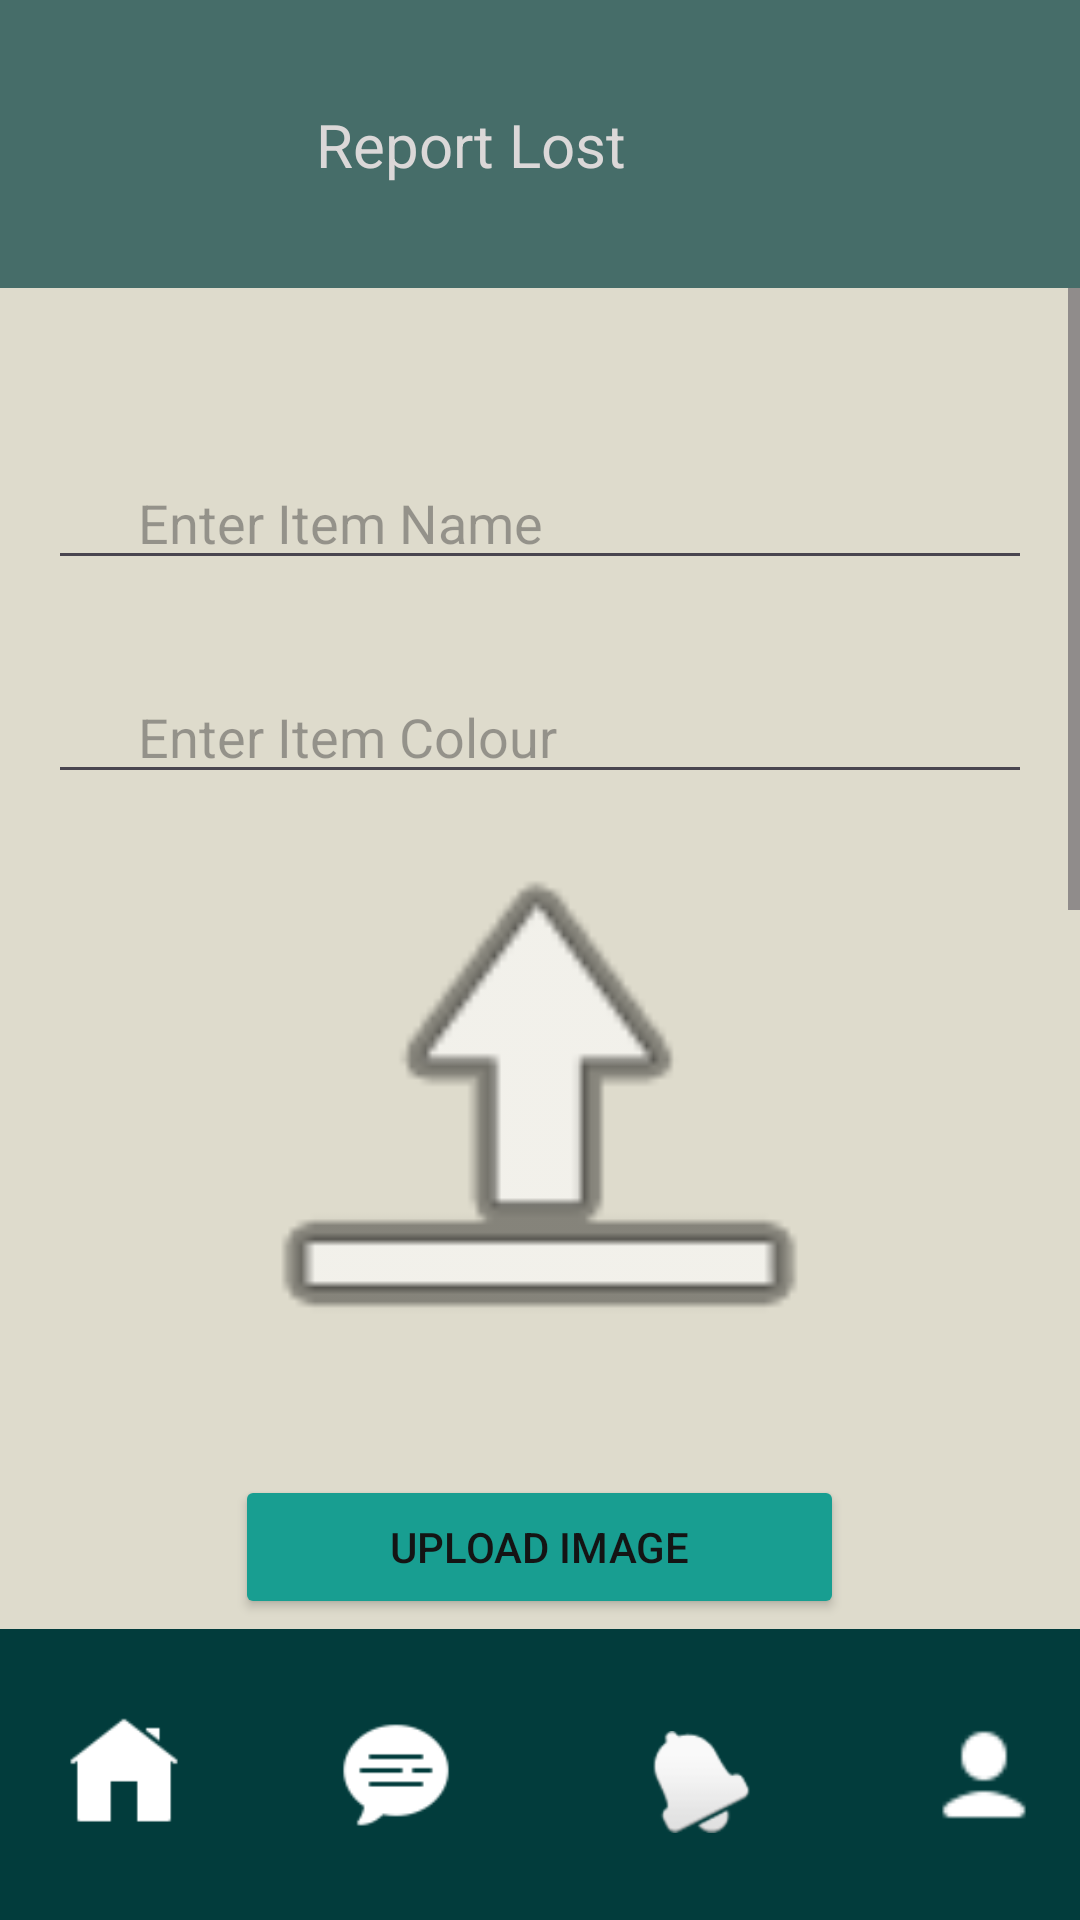

Point at icon controls on the screen. Image size 1080px x 1920px, points as [x,y].
home: [124,1770]
message: [396,1775]
popup reminder: [701,1782]
profile: [984,1775]
